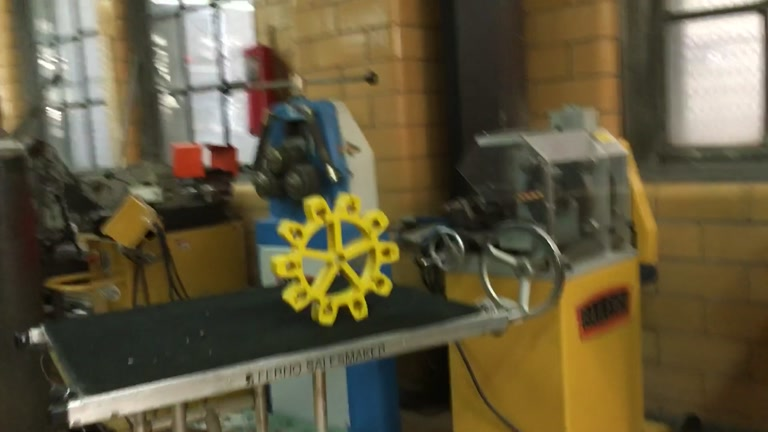gear: (268, 192, 400, 327)
